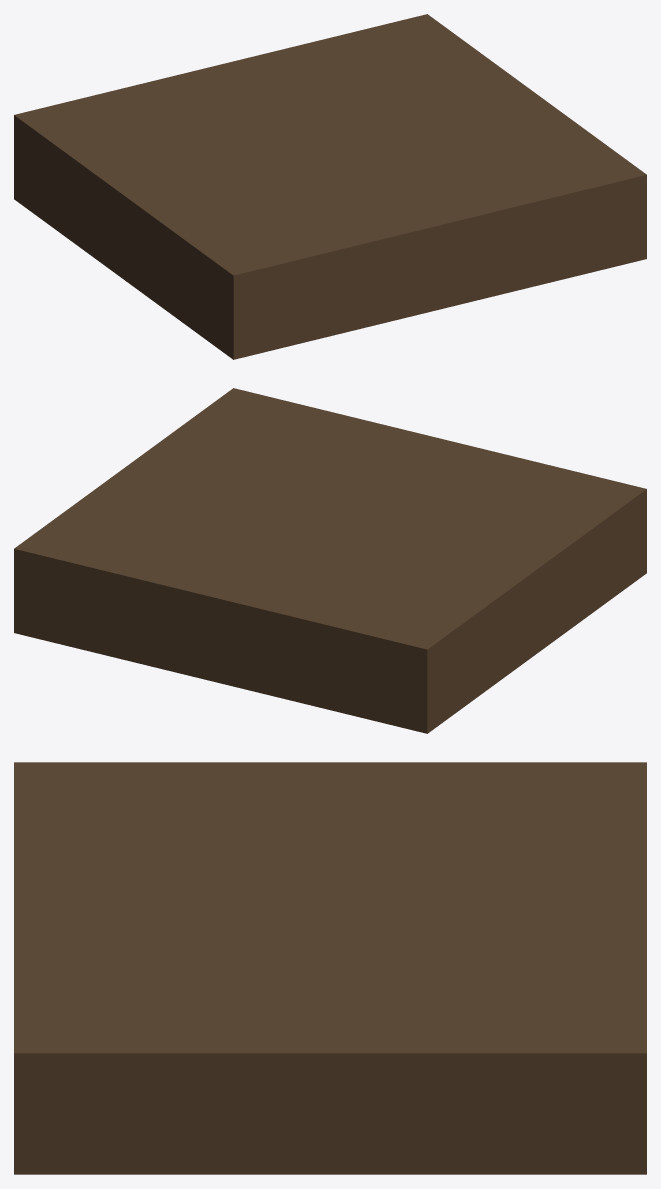
3 renders of one model, top to bottom at view 1: azimuth 30°, elevation 25°; view 2: azimuth 150°, elevation 25°; view 3: azimuth 270°, elevation 25°, orthographic. The views are drawn at different scales.
Parts seen in each view (by area): view 1: Cube.006; view 2: Cube.006; view 3: Cube.006.
Boxes of the visible parts, bbox=[...] form: Cube.006: bbox=[14, 14, 646, 359]; Cube.006: bbox=[14, 388, 646, 733]; Cube.006: bbox=[14, 762, 646, 1174].
Bounding box in the file's own units: 143 × 27.91 × 132.
